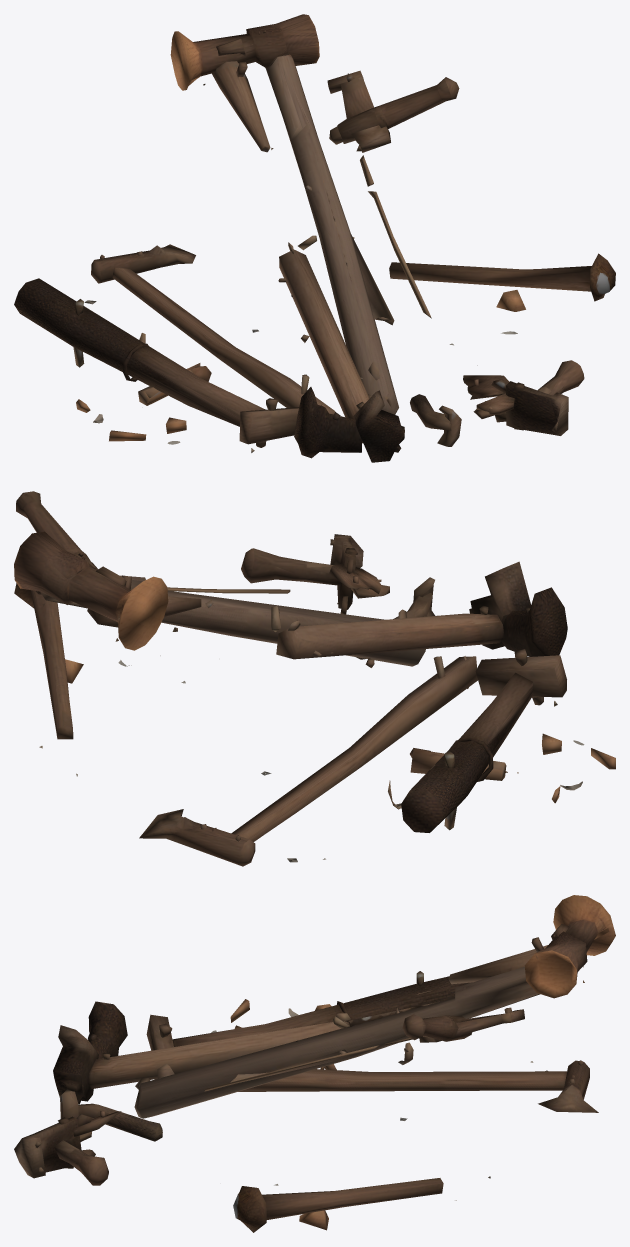
Rendered from scattered_tools.glb.
3 views of the same model, one above another, from view 1: azimuth 30°, elevation 25°; view 2: azimuth 150°, elevation 25°; view 3: azimuth 270°, elevation 25° (orthographic). The views are drawn at different scales.
Visible parts, largest first — view 1: scattered_tools_LOD0; view 2: scattered_tools_LOD0; view 3: scattered_tools_LOD0.
Part boxes in pixels (x1=…): scattered_tools_LOD0: x1=14, y1=14, x2=615, y2=462; scattered_tools_LOD0: x1=14, y1=491, x2=615, y2=866; scattered_tools_LOD0: x1=14, y1=895, x2=615, y2=1232.
Size of what is drawn, in the model's own units: 1.96 by 0.8562 by 2.
Materials: 1 (1 with a texture image).
